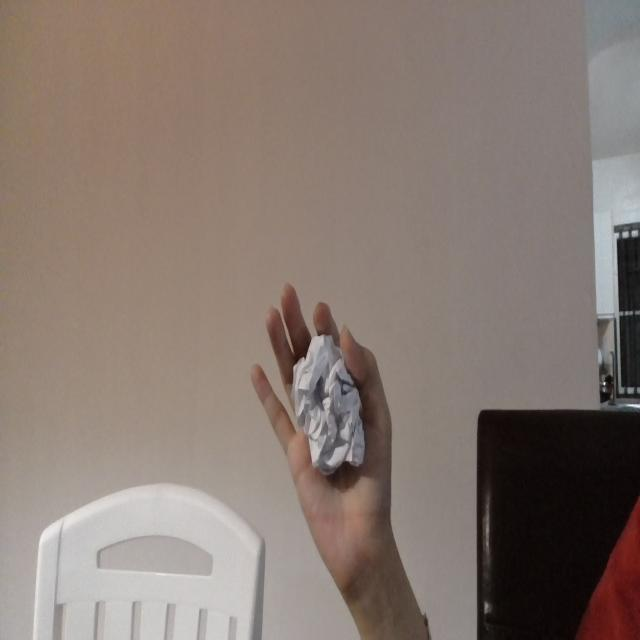crumpled_paper: (291, 315, 368, 487)
